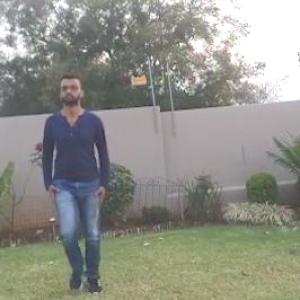follow: (39, 63, 128, 299)
